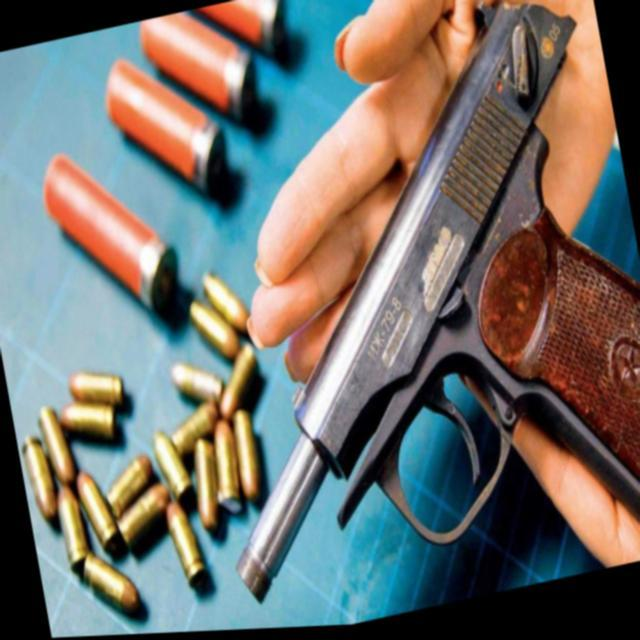weapon: (135, 0, 640, 635)
